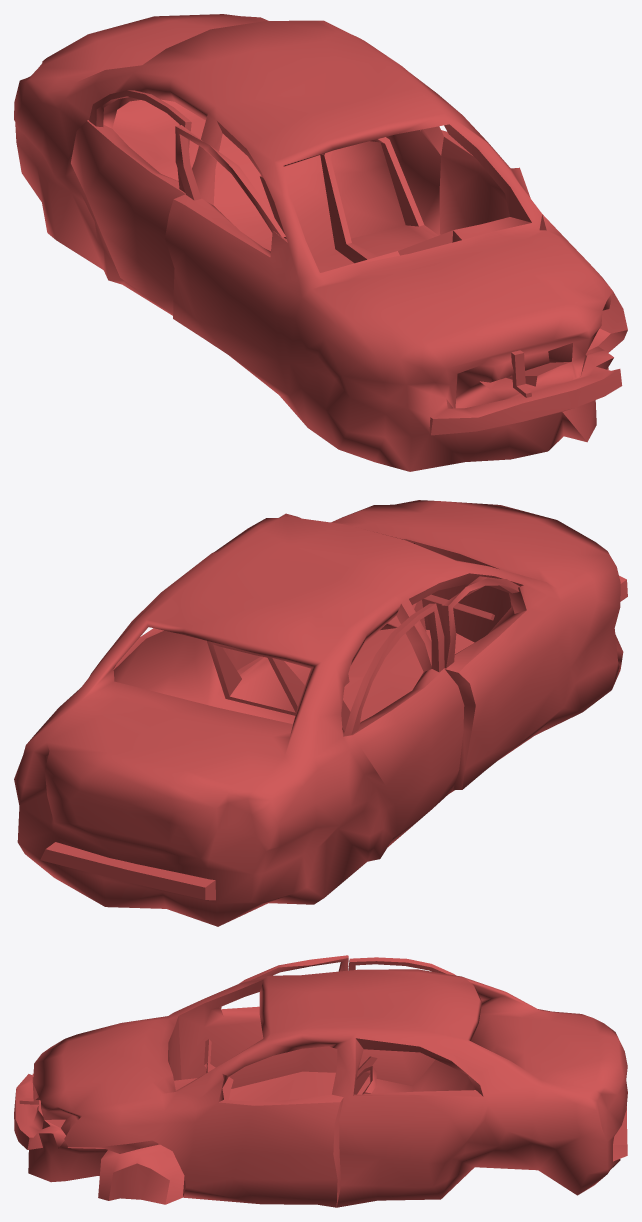
The model's file is burned_out_cars_1.fbx.
The picture shows the model from 3 angles, top to bottom: view 1: azimuth 30°, elevation 25°; view 2: azimuth 150°, elevation 25°; view 3: azimuth 270°, elevation 25°; orthographic projection. The views are drawn at different scales.
Visible parts, largest first — view 1: burned_out_cars1; view 2: burned_out_cars1; view 3: burned_out_cars1.
Boxes of the visible parts, box(x1,y1,x2,y2) form: burned_out_cars1: box(14, 14, 627, 471); burned_out_cars1: box(14, 500, 627, 926); burned_out_cars1: box(14, 955, 627, 1207).
Bounding box in the file's own units: 278 × 183 × 653.
